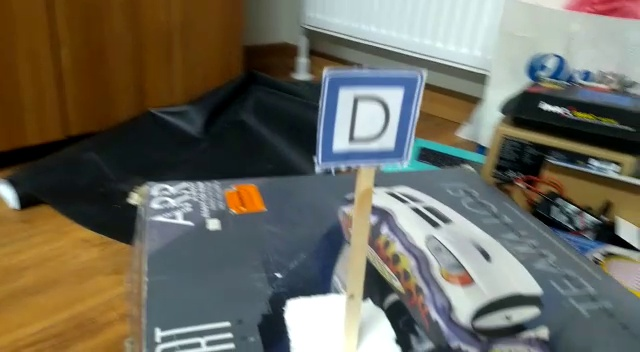durak: (326, 75, 407, 157)
